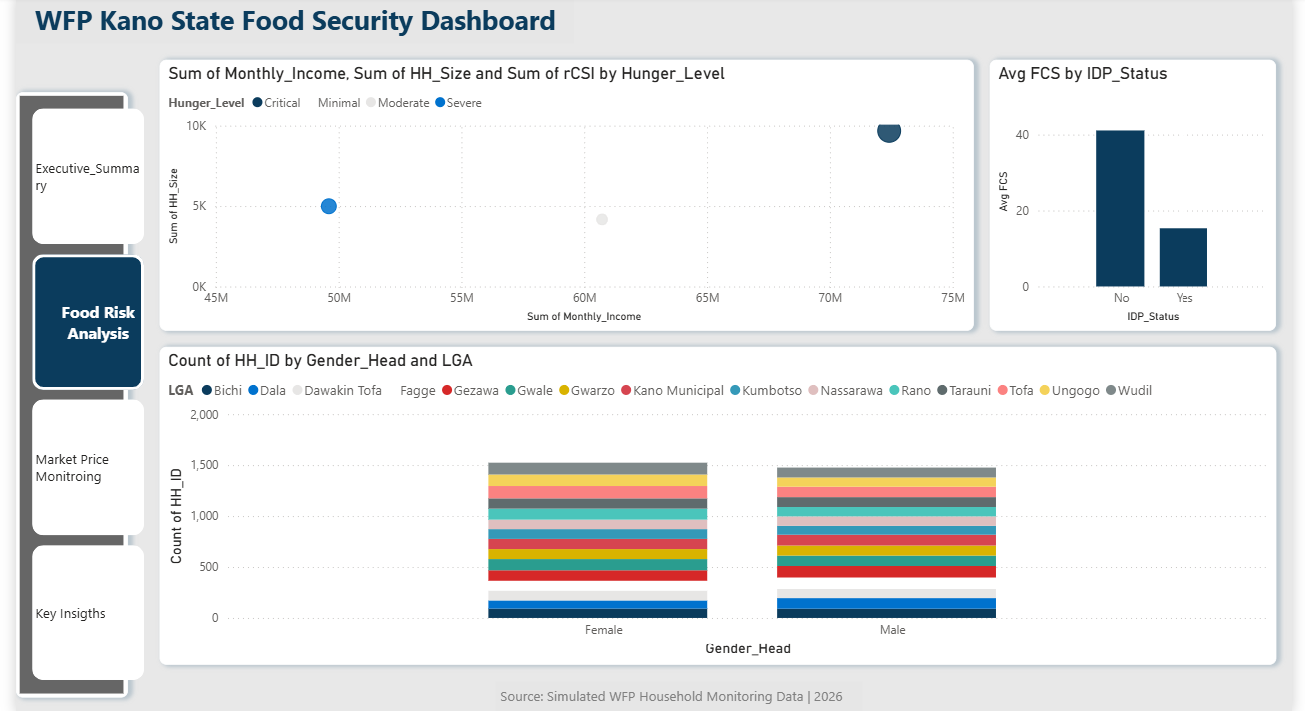

The page's visual inventory and layout, read from the dashboard file:
{"tool":"powerbi","page":{"name":"Food Risk Analysis","canvas":[1280,720],"ordinal":1},"visuals":[{"type":"scatterChart","fields":{"X":["Sum(Household_Data.Monthly_Income)"],"Y":["Sum(Household_Data.HH_Size)"],"Size":["Sum(Household_Data.rCSI)"],"Series":["Household_Data.Hunger_Level"]},"box":[144,64,816,272],"z":0},{"type":"columnChart","fields":{"Category":["Household_Data.Gender_Head"],"Y":["CountNonNull(Household_Data.HH_ID)"],"Series":["Household_Data.LGA"]},"box":[144,352,1120,320],"z":1000},{"type":"clusteredColumnChart","fields":{"Category":["Household_Data.IDP_Status"],"Y":["Household_Data.Avg FCS"]},"box":[976,64,288,272],"z":2000},{"type":"textbox","box":[0,0,560,48],"z":3000},{"type":"textbox","box":[480,688,368,32],"z":4000},{"type":"shape","box":[0,96,112,608],"z":5000},{"type":"pageNavigator","box":[16,112,112,576],"z":6000}]}

Visuals, with their boxes on the page's 1280x720 design canvas (x1, y1, x2, y2). These are canvas units, not pixel positions in the 1305x711 screenshot, which may show the page scaled, cropped or inside an application window:
scatterChart - Sum(Household_Data.Monthly_Income) x Sum(Household_Data.HH_Size): 144/64/960/336
columnChart - Household_Data.Gender_Head x CountNonNull(Household_Data.HH_ID): 144/352/1264/672
clusteredColumnChart - Household_Data.IDP_Status x Household_Data.Avg FCS: 976/64/1264/336
textbox: 0/0/560/48
textbox: 480/688/848/720
shape: 0/96/112/704
pageNavigator: 16/112/128/688
